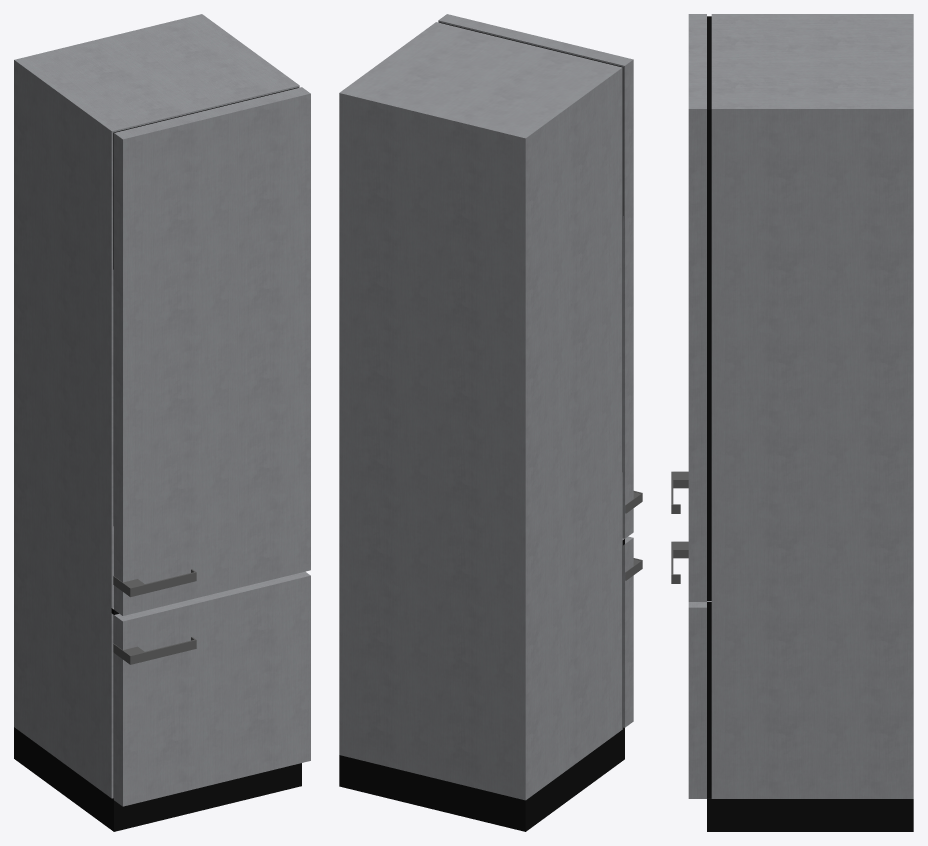
The model's file is REFRIGERATOR_24.glb.
3 renders of one model, left to right at view 1: azimuth 30°, elevation 25°; view 2: azimuth 150°, elevation 25°; view 3: azimuth 270°, elevation 25°, orthographic. The views are drawn at different scales.
Parts seen in each view (by area): view 1: Refrigerator_24__001; view 2: Refrigerator_24__001; view 3: Refrigerator_24__001.
Part boxes in pixels (x1=…): Refrigerator_24__001: x1=14, y1=14, x2=310, y2=831; Refrigerator_24__001: x1=339, y1=14, x2=642, y2=831; Refrigerator_24__001: x1=671, y1=14, x2=913, y2=831.
Bounding box in the file's own units: 612 × 2166 × 658.
3 materials, 1 textured.
